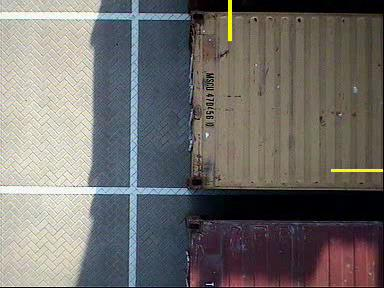groundmarker_2: (117, 98, 170, 131), (122, 220, 174, 253)
